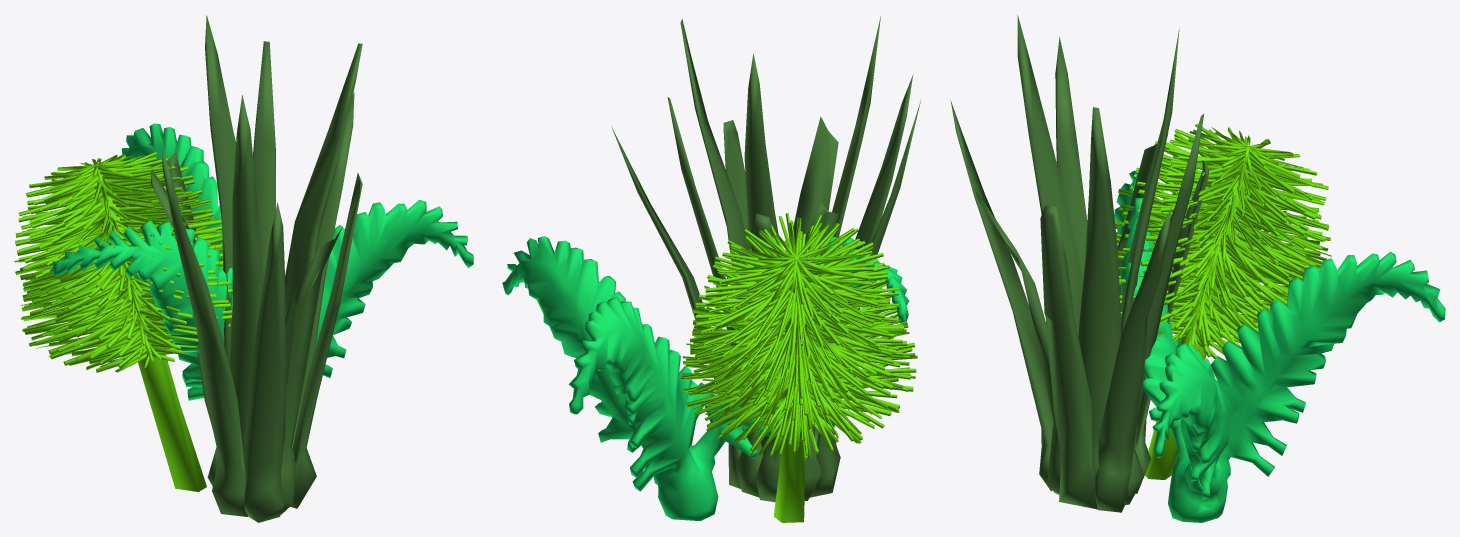
The model's file is ticalla-brush-colored-lowpoly.glb.
3 renders of one model, left to right at view 1: azimuth 30°, elevation 25°; view 2: azimuth 150°, elevation 25°; view 3: azimuth 270°, elevation 25°, orthographic.
Parts seen in each view (by area): view 1: PlankFern1; view 2: PlankFern1; view 3: PlankFern1.
Boxes of the visible parts, x1,y1,x2,y2 form: PlankFern1: (14, 15, 473, 522); PlankFern1: (502, 16, 921, 522); PlankFern1: (950, 15, 1445, 522).
Size of the model in its own units: 3.13 by 3.3 by 3.22.
